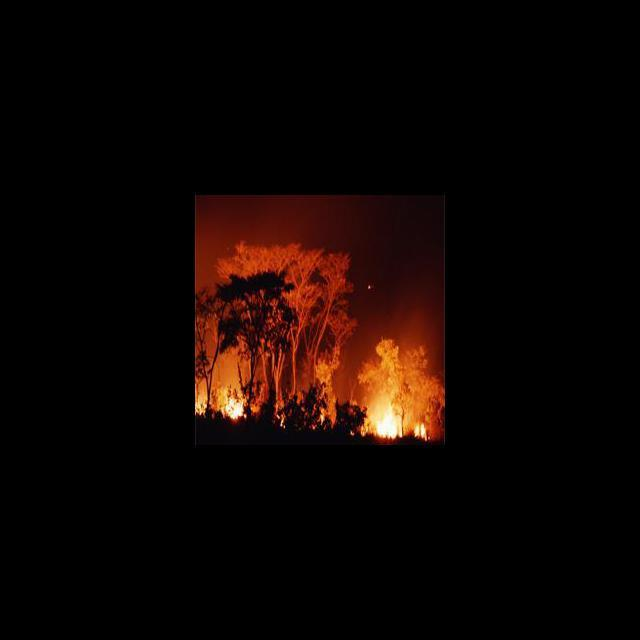Fire: (361, 402, 430, 444), (196, 385, 248, 421)
